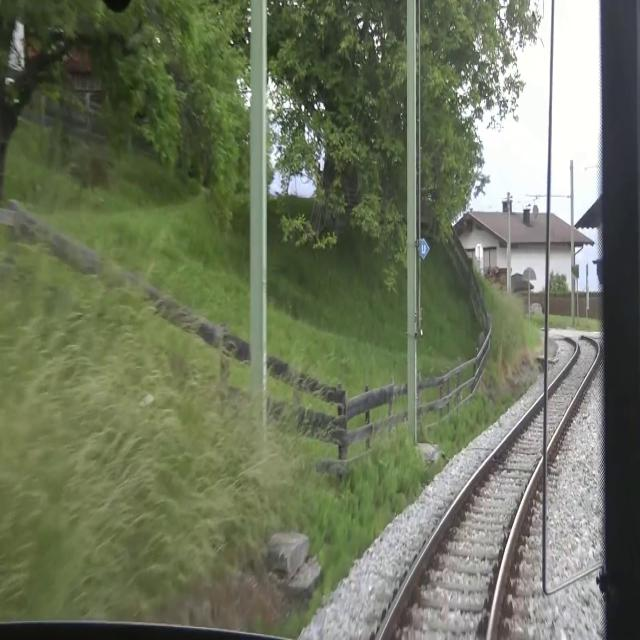rail-track: (380, 335, 596, 639)
